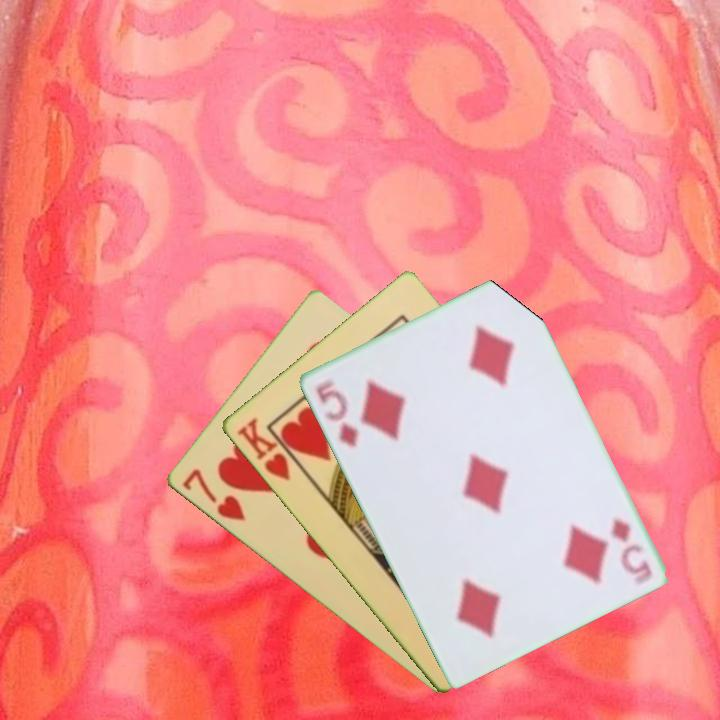5d: (312, 376, 361, 450), (606, 515, 655, 588)
7h: (178, 465, 248, 524)
Kh: (232, 414, 306, 484)
